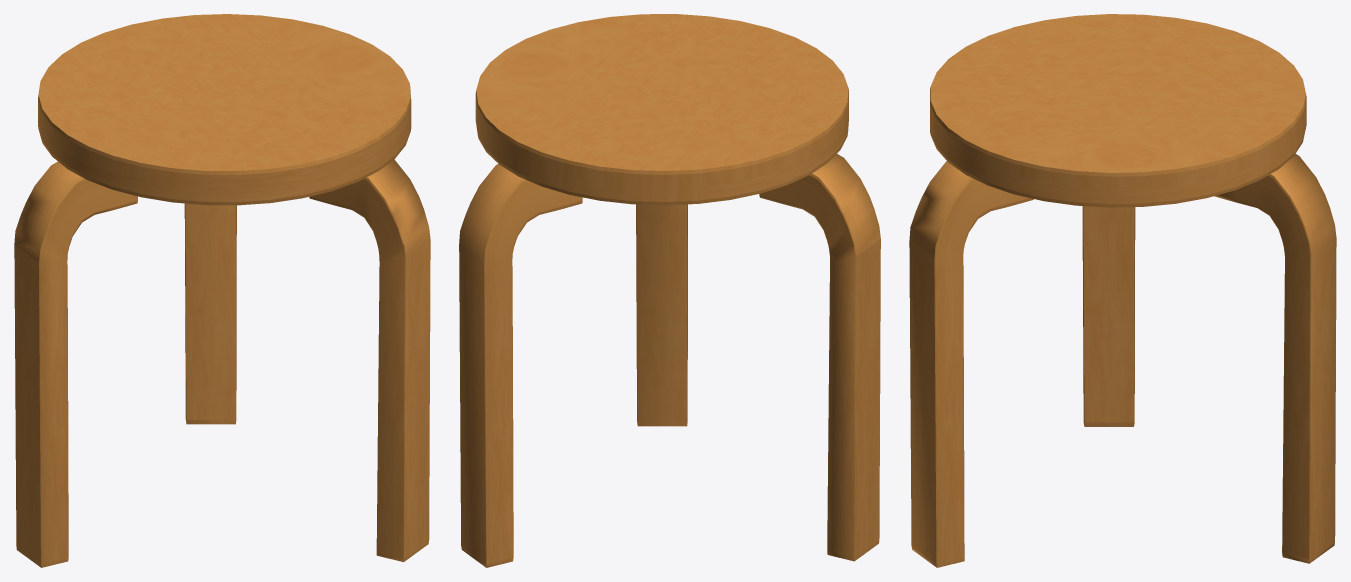
The picture shows the model from 3 angles, left to right: view 1: azimuth 30°, elevation 25°; view 2: azimuth 150°, elevation 25°; view 3: azimuth 270°, elevation 25°; orthographic projection.
Visible parts, largest first — view 1: Cube; view 2: Cube; view 3: Cube.
Part boxes in pixels (bbox=[...]): Cube: bbox=[14, 14, 430, 567]; Cube: bbox=[459, 14, 880, 567]; Cube: bbox=[909, 14, 1336, 567].
Size of the model in its own units: 5.93 by 6.45 by 5.96.
1 material, 1 textured.
